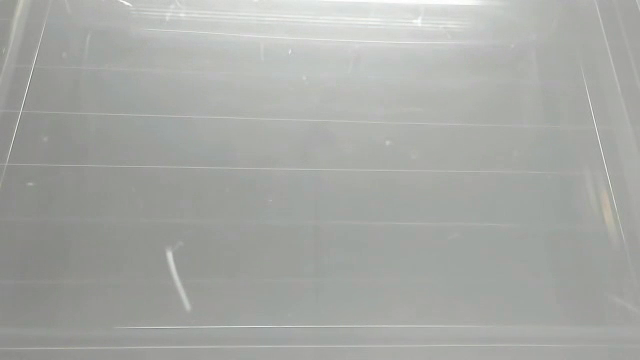alpha: (160, 244, 198, 315), (114, 1, 135, 11)
